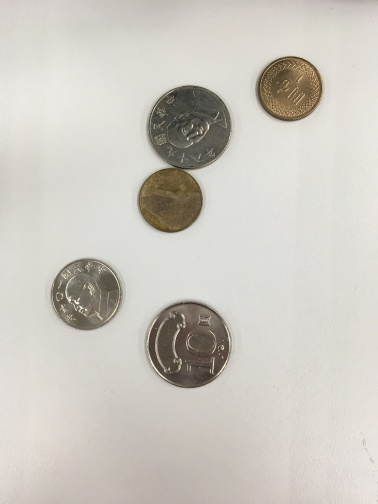1 dollar: (255, 47, 333, 132), (132, 162, 208, 243)
10 dollar: (139, 292, 242, 397), (134, 81, 240, 172)
5 dollar: (37, 252, 127, 340)
